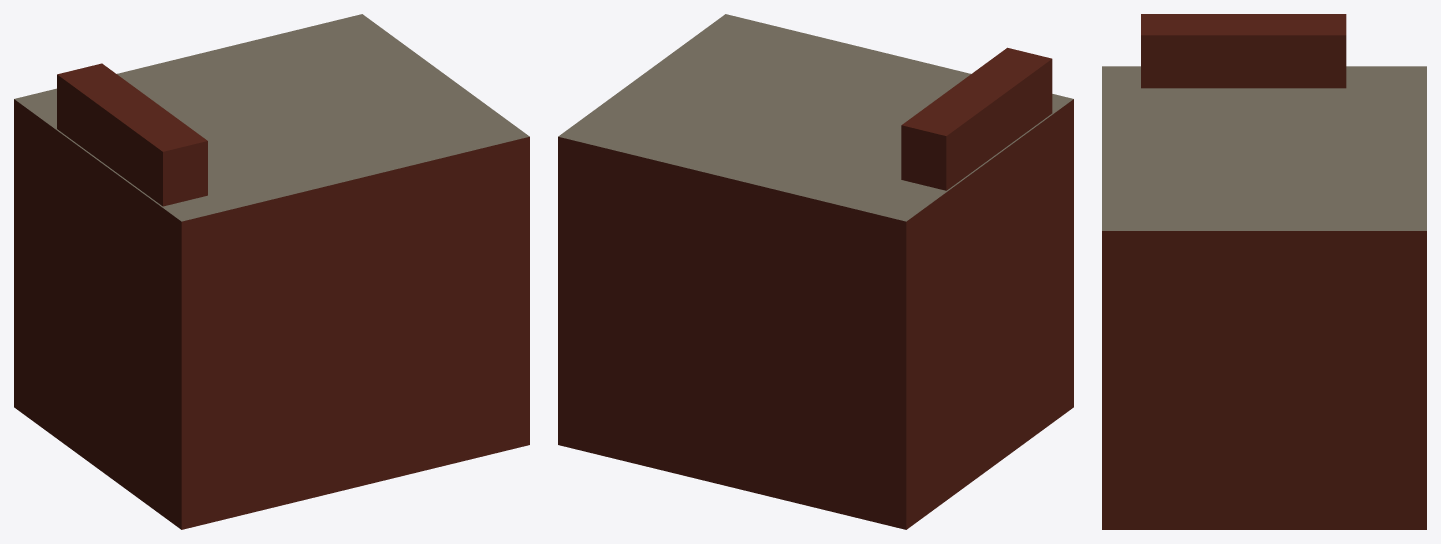
The model's file is mh-garage-flats.towns-v1.lod2.glb.
3 renders of one model, left to right at view 1: azimuth 30°, elevation 25°; view 2: azimuth 150°, elevation 25°; view 3: azimuth 270°, elevation 25°, orthographic. The views are drawn at different scales.
Visible parts, largest first — view 1: mh-garage-flats; view 2: mh-garage-flats; view 3: mh-garage-flats.
Part boxes in pixels (left/top/right/bottom): mh-garage-flats: left=14, top=14, right=529, bottom=529; mh-garage-flats: left=558, top=14, right=1073, bottom=529; mh-garage-flats: left=1102, top=14, right=1426, bottom=529.
Size of the model in its own units: 12 by 11.95 by 10.
